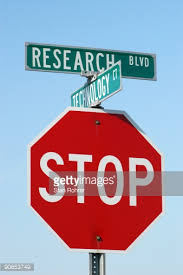stop_sign: (26, 104, 164, 254)
